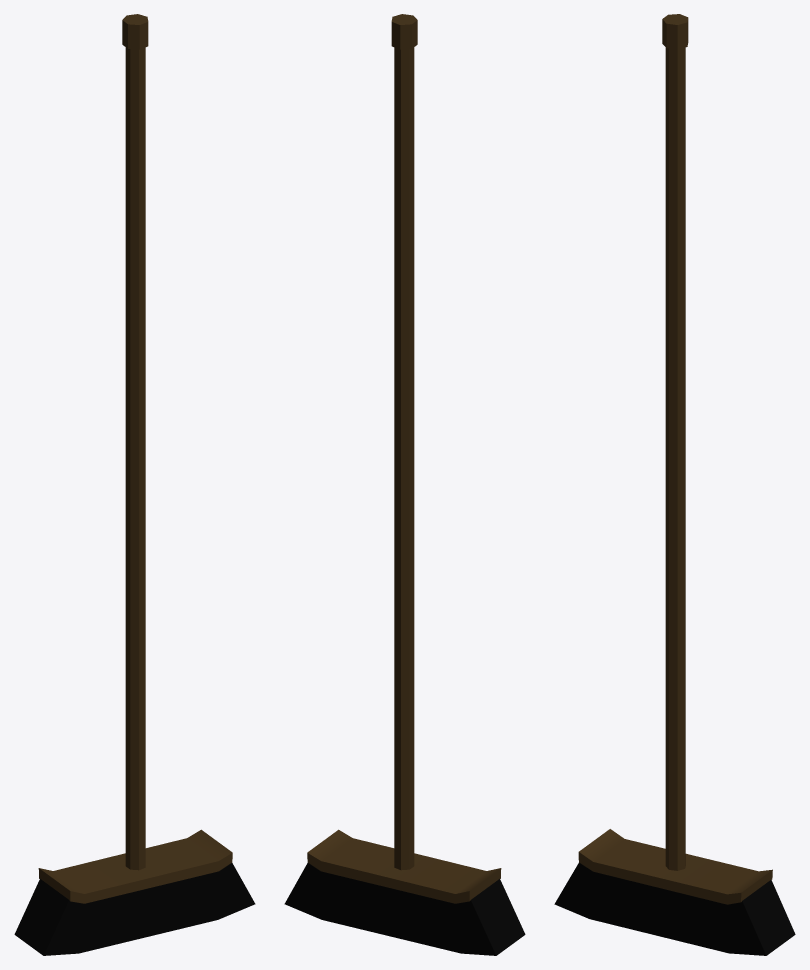
Rendered from BalaisPoussiere.fbx.
3 views of the same model, side by side, from view 1: azimuth 30°, elevation 25°; view 2: azimuth 150°, elevation 25°; view 3: azimuth 330°, elevation 25° (orthographic).
Visible parts, largest first — view 1: pCylinder3; view 2: pCylinder3; view 3: pCylinder3.
Boxes of the visible parts, x1=… form: pCylinder3: x1=14, y1=14, x2=255, y2=955; pCylinder3: x1=284, y1=14, x2=525, y2=955; pCylinder3: x1=554, y1=14, x2=795, y2=955.
Size of the model in its own units: 1.94 by 7.92 by 0.4986.
